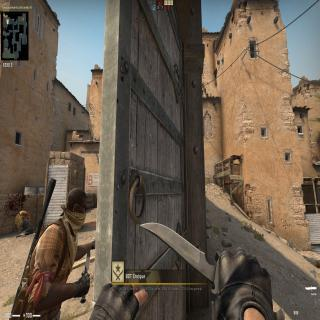T-Head: (66, 190, 86, 229)
